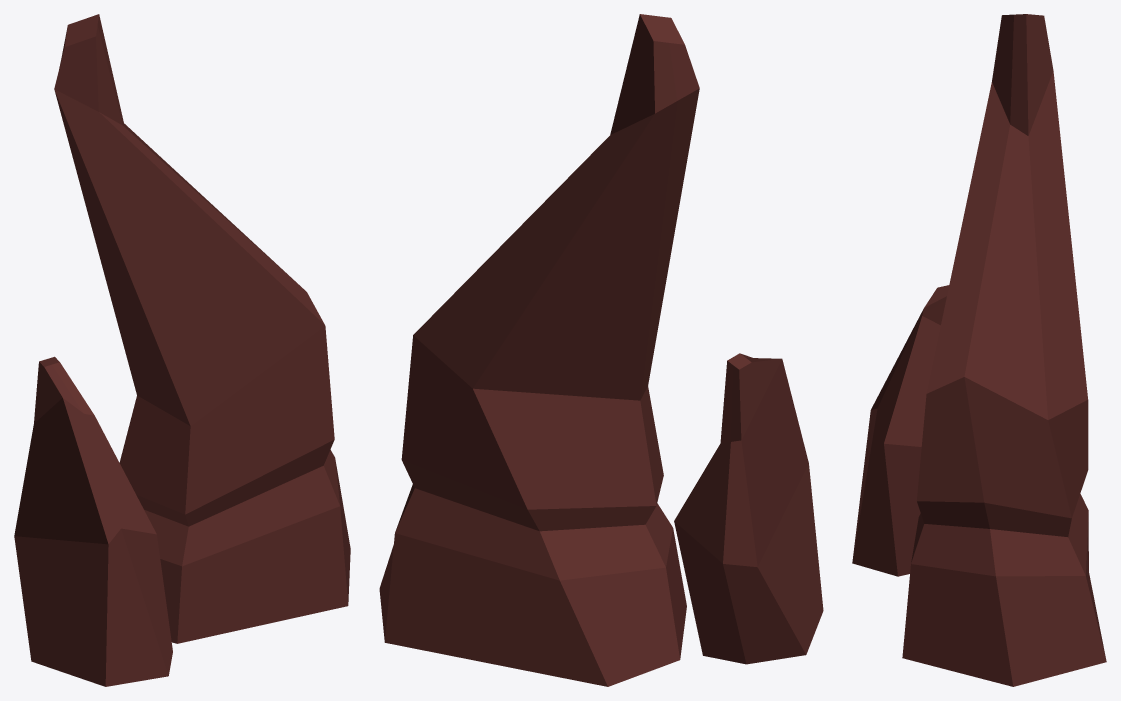
The model's file is Rock_12_Red.fbx.
3 renders of one model, left to right at view 1: azimuth 30°, elevation 25°; view 2: azimuth 150°, elevation 25°; view 3: azimuth 270°, elevation 25°, orthographic. The views are drawn at different scales.
Visible parts, largest first — view 1: Rock_12_Red_Mat_1, Rock_12_Red_Mat_2; view 2: Rock_12_Red_Mat_1, Rock_12_Red_Mat_2; view 3: Rock_12_Red_Mat_1, Rock_12_Red_Mat_2.
Boxes of the visible parts, bbox=[...] form: Rock_12_Red_Mat_1: bbox=[54, 14, 350, 643]; Rock_12_Red_Mat_2: bbox=[14, 356, 172, 686]; Rock_12_Red_Mat_1: bbox=[379, 14, 699, 686]; Rock_12_Red_Mat_2: bbox=[674, 353, 823, 664]; Rock_12_Red_Mat_1: bbox=[902, 14, 1106, 686]; Rock_12_Red_Mat_2: bbox=[852, 285, 949, 576].
Size of the model in its own units: 271 by 432 by 178.
